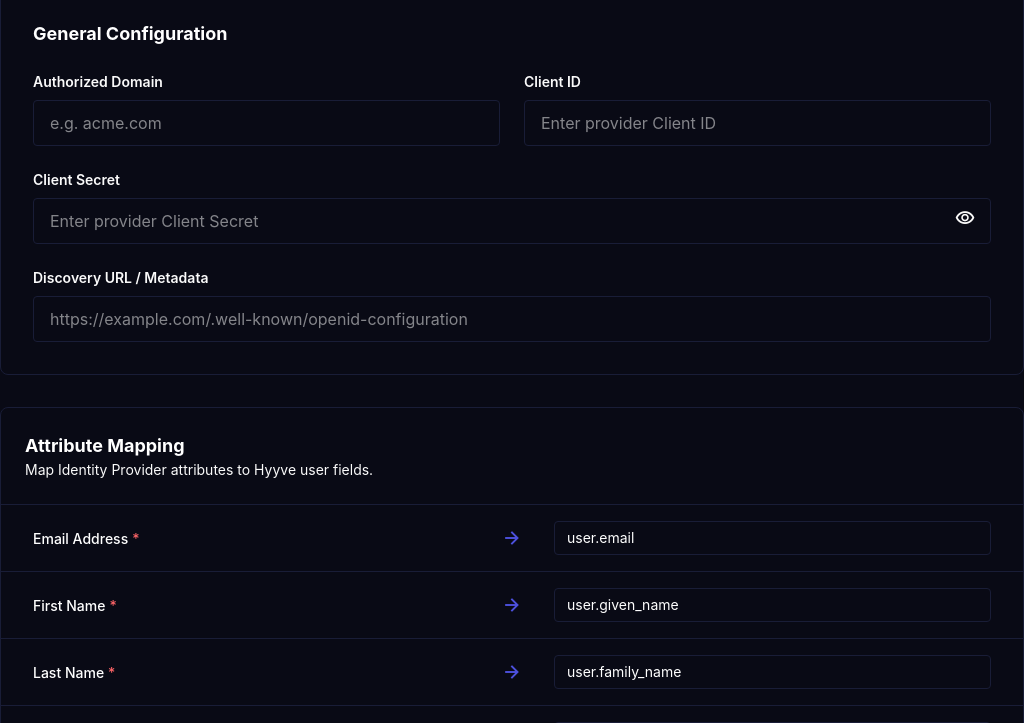
Test: SamlConfigForm › Form Validation › validates domain format
Step 1. Type "invalid domain with spaces" into the field labelled "Authorized Domain" → coordinates (266, 123), box [33,100,500,146]
(page scrolled)
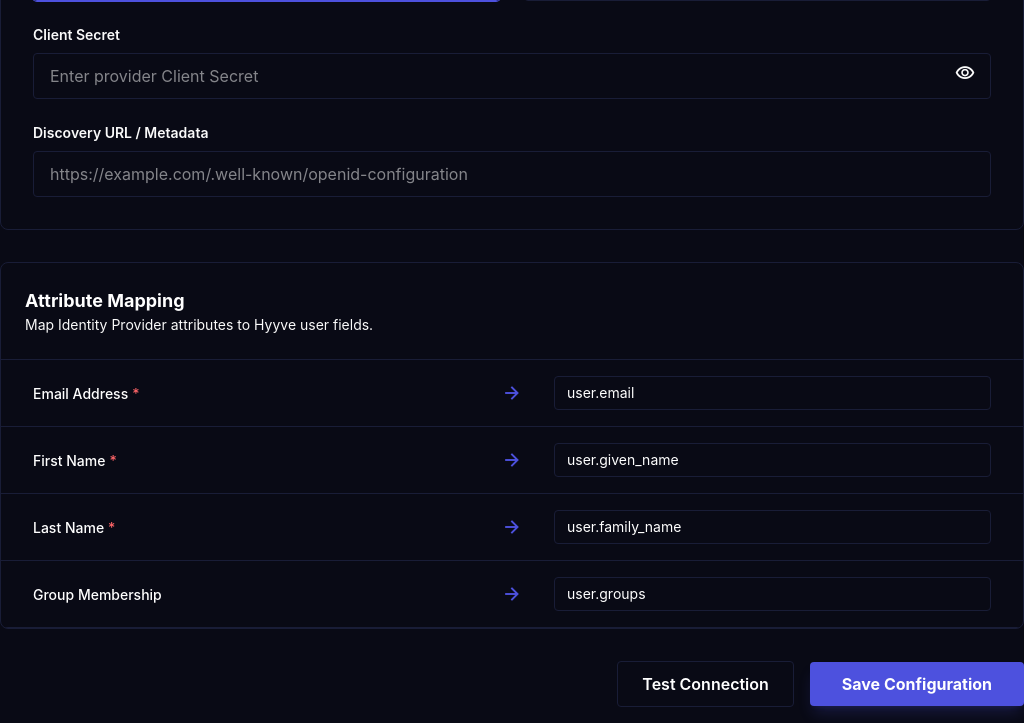
Step 2. Click the button "Save Configuration" → coordinates (917, 684), box [810,662,1023,706]
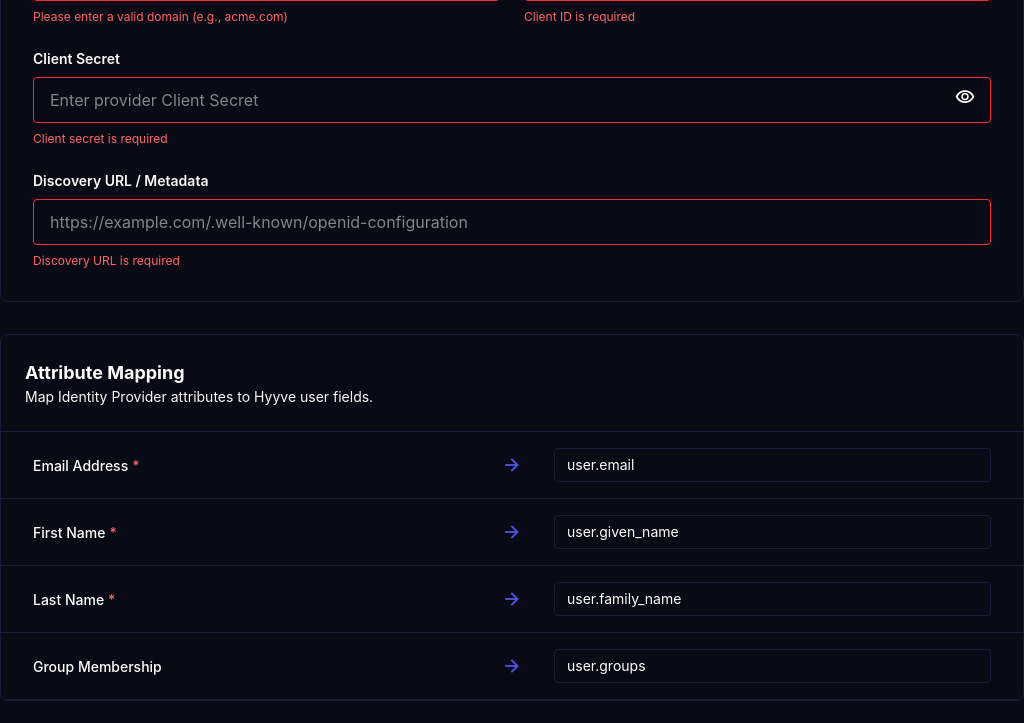
Expected: the text "Please enter a valid domain (e.g., acme.com)" is shown, [33,9,288,24]
